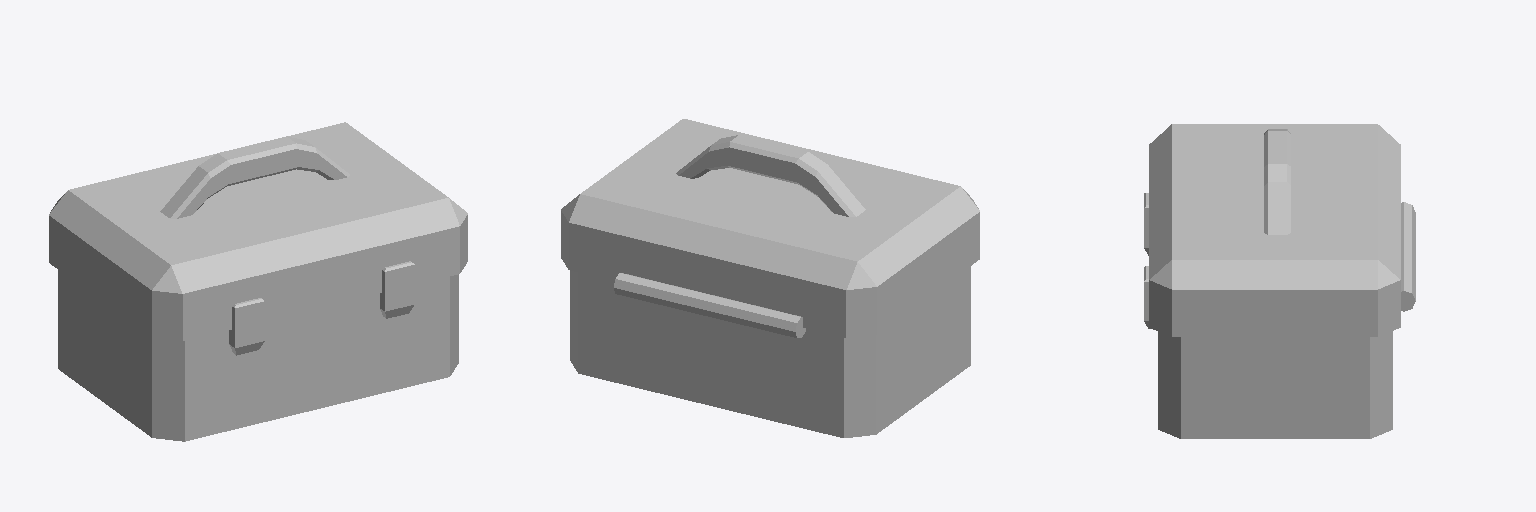
File: toolbox.obj
3 renders of one model, left to right at view 1: azimuth 30°, elevation 25°; view 2: azimuth 150°, elevation 25°; view 3: azimuth 270°, elevation 25°, orthographic.
Visible parts, largest first — view 1: Toolbox1; view 2: Toolbox1; view 3: Toolbox1.
Part boxes in pixels (x1,y1,x2,y2): Toolbox1: (49, 122, 467, 441); Toolbox1: (561, 119, 979, 437); Toolbox1: (1144, 124, 1415, 438).
Bounding box in the file's own units: 31 × 20.31 × 23.03.